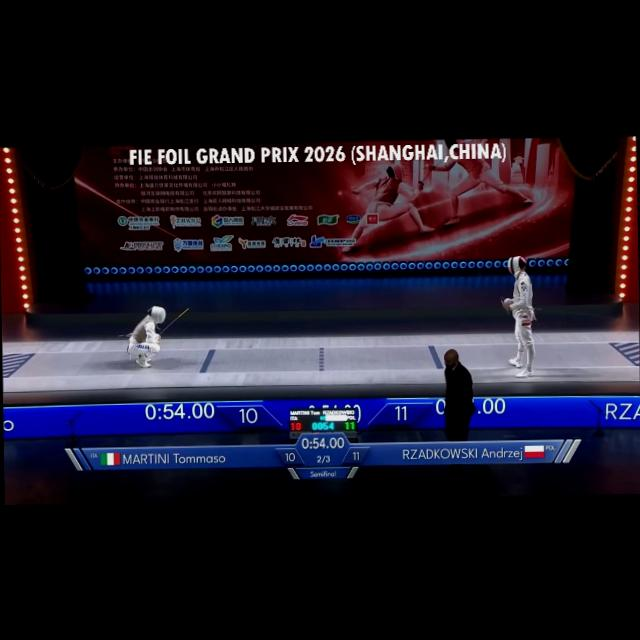blade: (150, 304, 192, 337), (497, 296, 515, 318)
